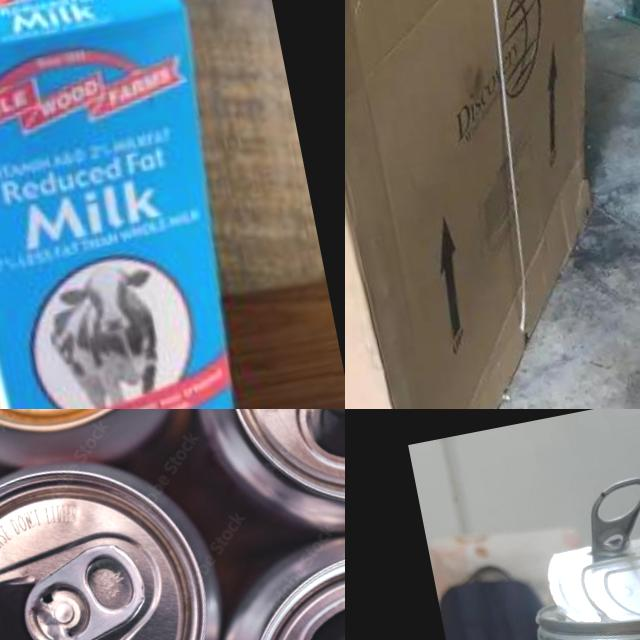aba de lata: (13, 532, 157, 640), (581, 477, 640, 563)
caixinha: (0, 0, 280, 409)
lata: (0, 443, 237, 640), (504, 458, 640, 640)
papelão: (345, 0, 640, 409)
